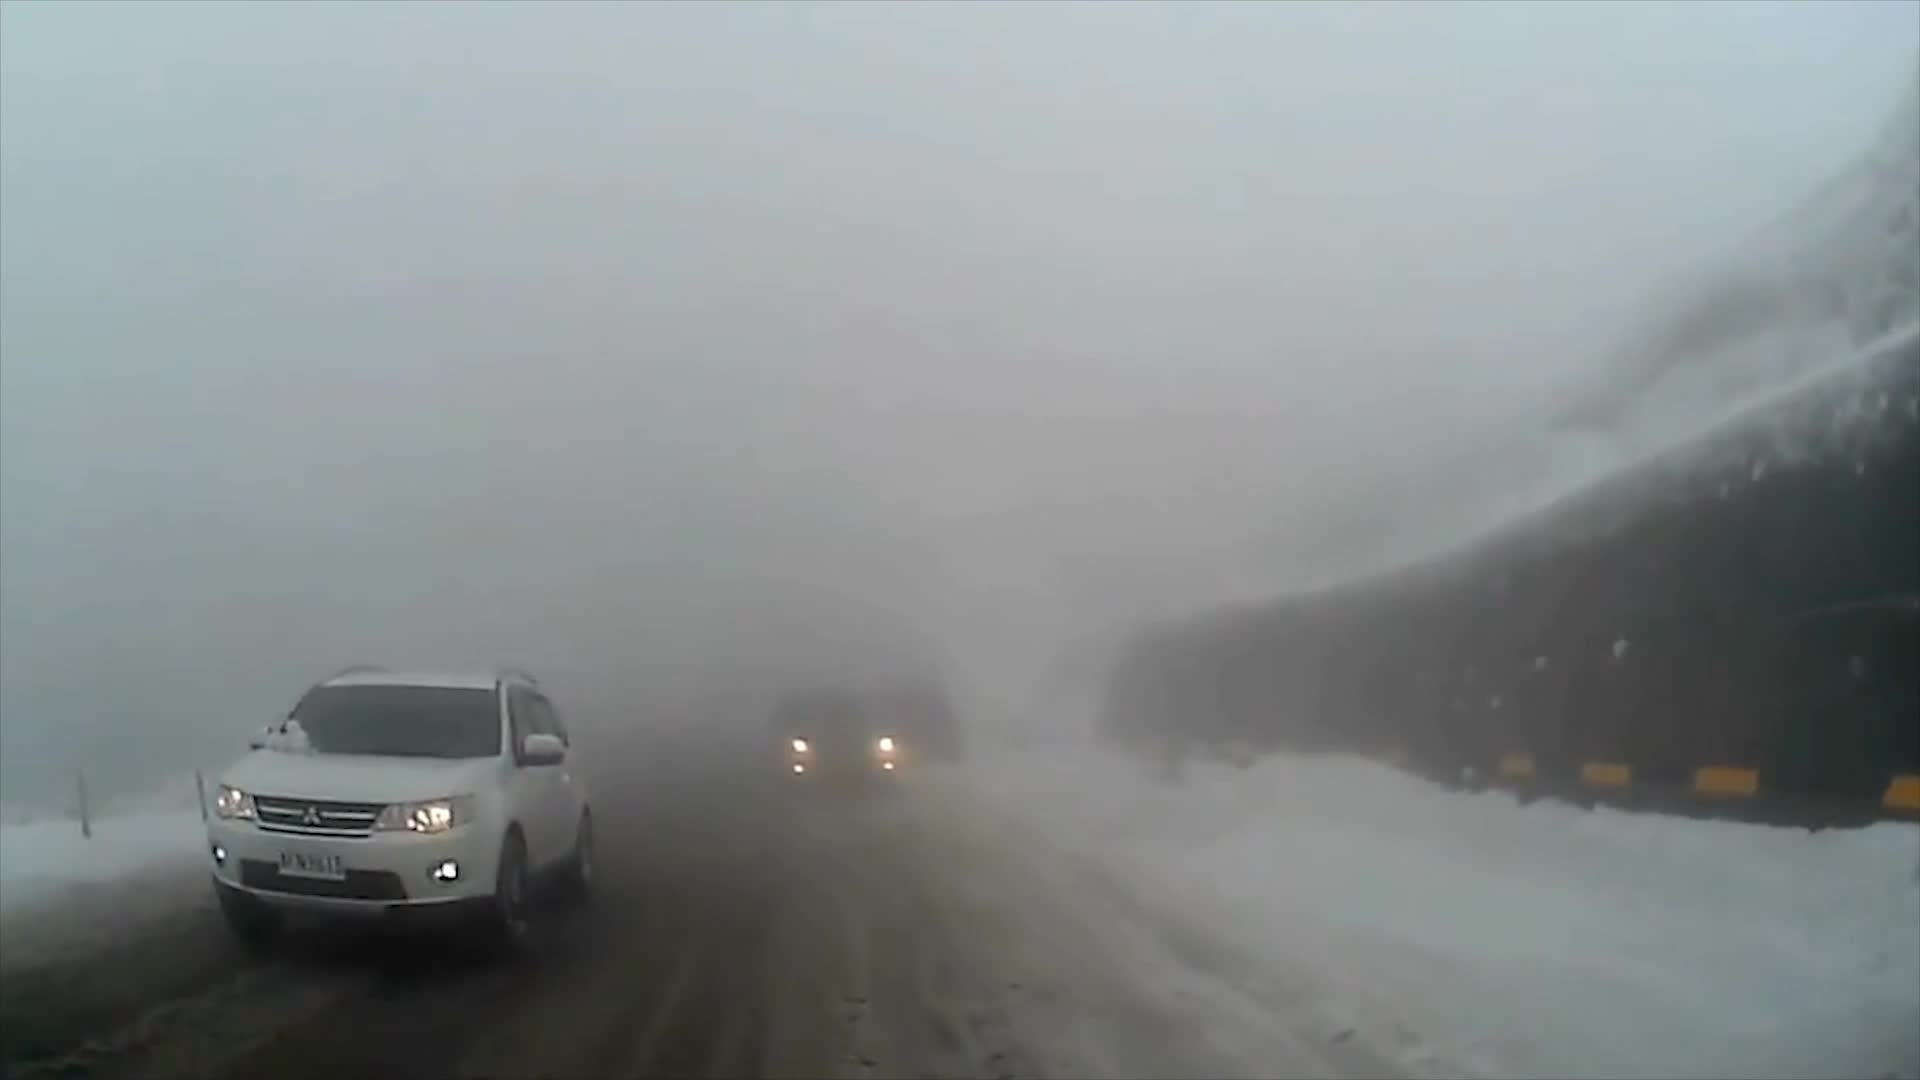vehicle: (203, 663, 597, 955), (757, 691, 902, 803)
